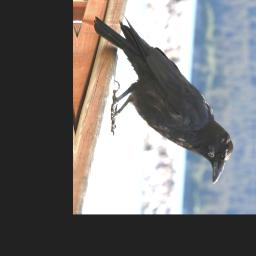Crow: (89, 15, 236, 184)
